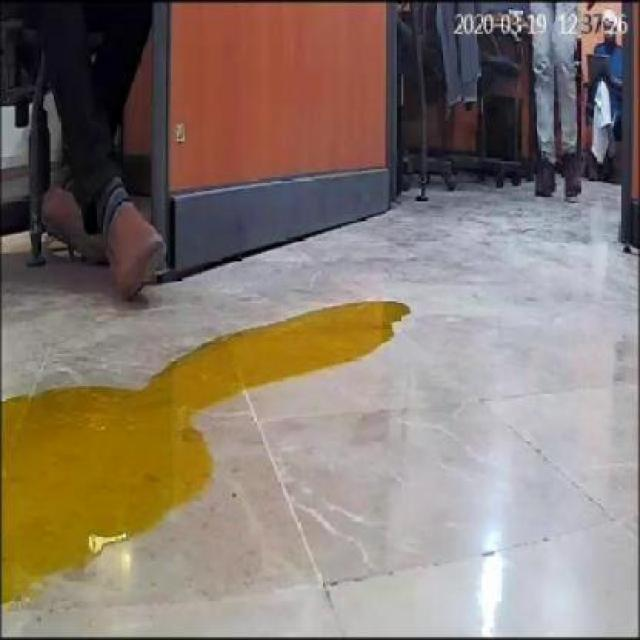spillage: (1, 302, 409, 608)
